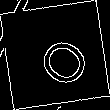O_NW: (22, 22, 88, 88)
